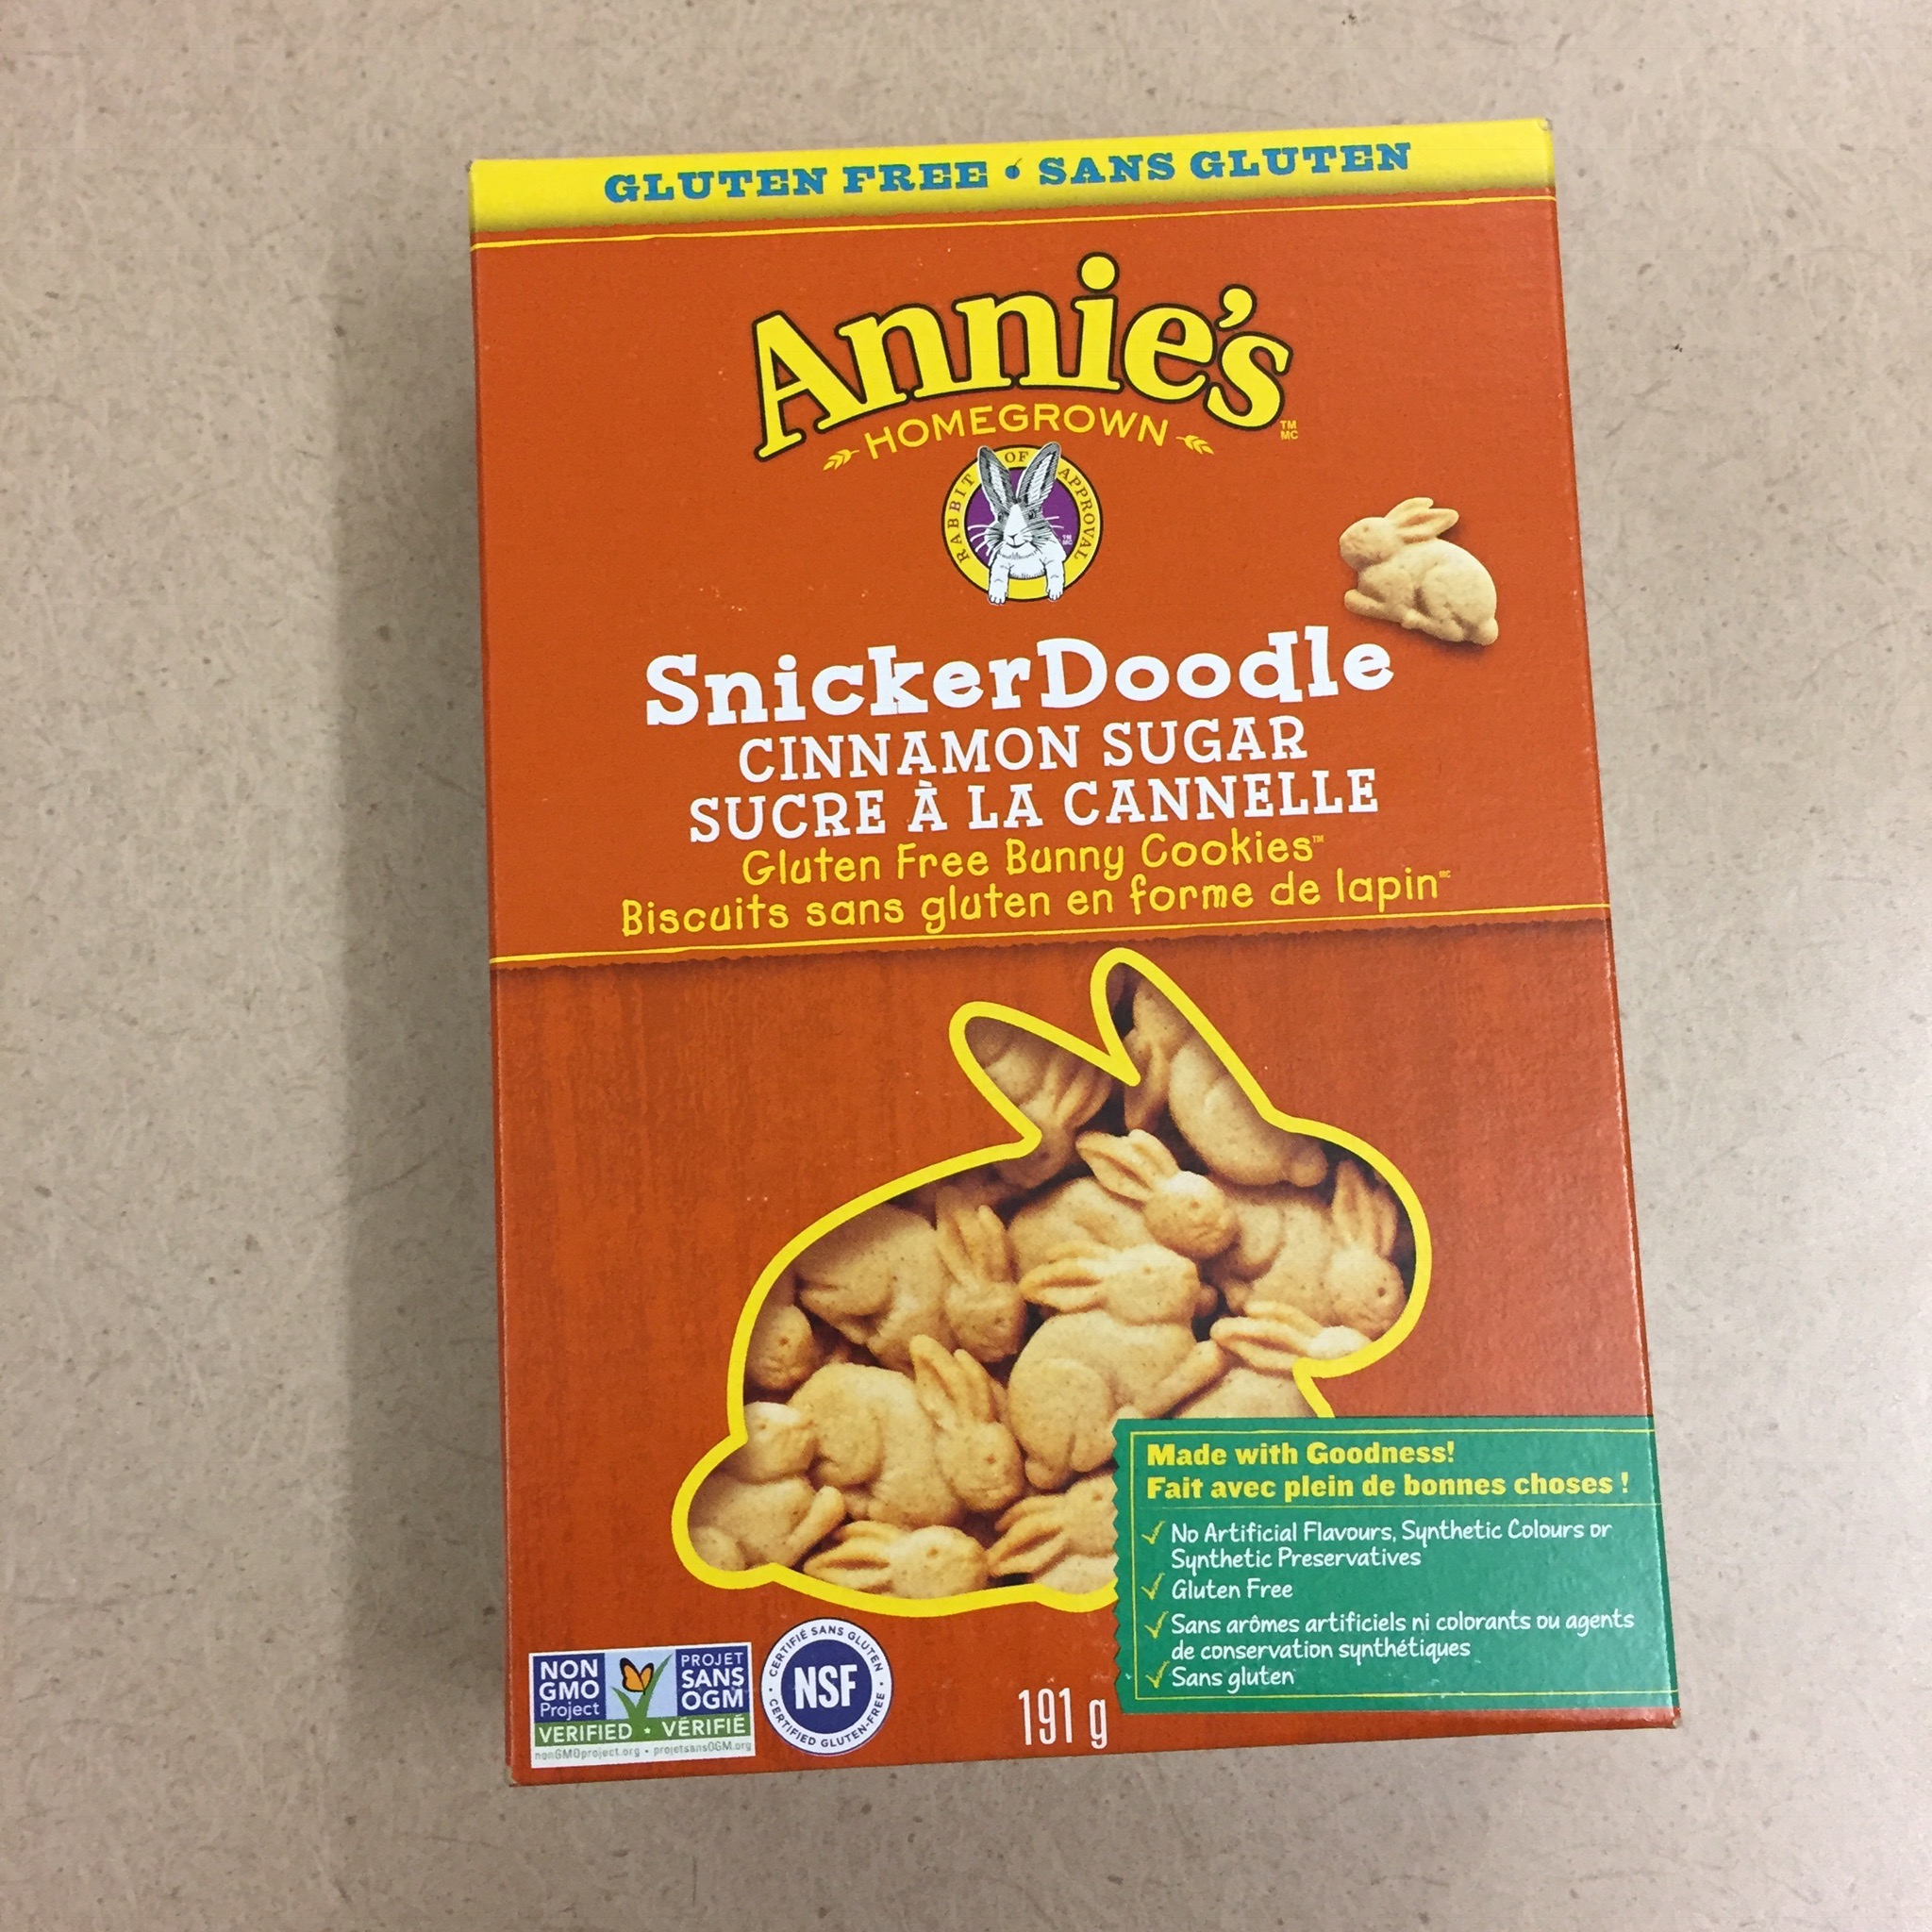annies_snickerdoodle_cinnamon_sugar: (464, 111, 1686, 1794)
